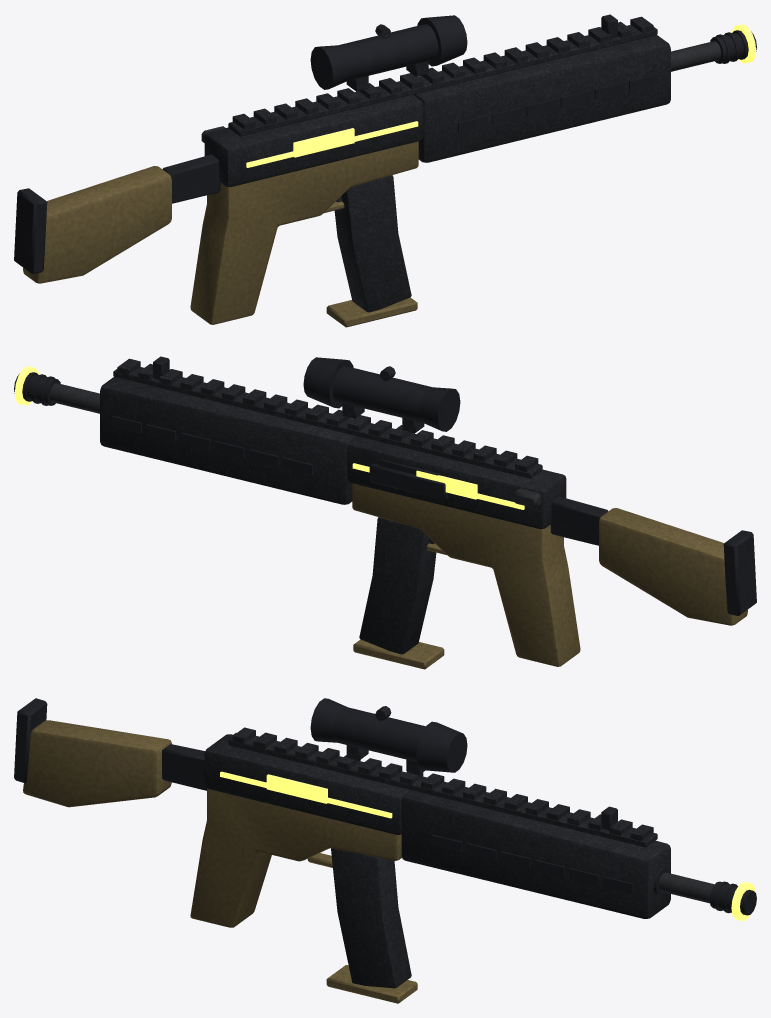
The model's file is rifle_r4.fbx.
3 renders of one model, top to bottom at view 1: azimuth 30°, elevation 25°; view 2: azimuth 150°, elevation 25°; view 3: azimuth 330°, elevation 25°, orthographic.
Parts seen in each view (by area): view 1: Body, Magazine, Glow; view 2: Body, Magazine, Bolt, Glow; view 3: Body, Magazine, Glow.
Boxes of the visible parts, x1,y1,x2,y2 form: Body: (14, 14, 756, 324); Magazine: (326, 175, 417, 327); Glow: (246, 24, 756, 167); Body: (14, 356, 756, 666); Magazine: (353, 517, 444, 669); Bolt: (369, 459, 541, 508); Glow: (14, 366, 524, 509); Body: (14, 698, 756, 927); Magazine: (326, 848, 417, 1003); Glow: (220, 771, 755, 920).
Bounding box in the file's own units: 8.53 × 3.17 × 0.635.
Materials: 2 (1 with a texture image).
